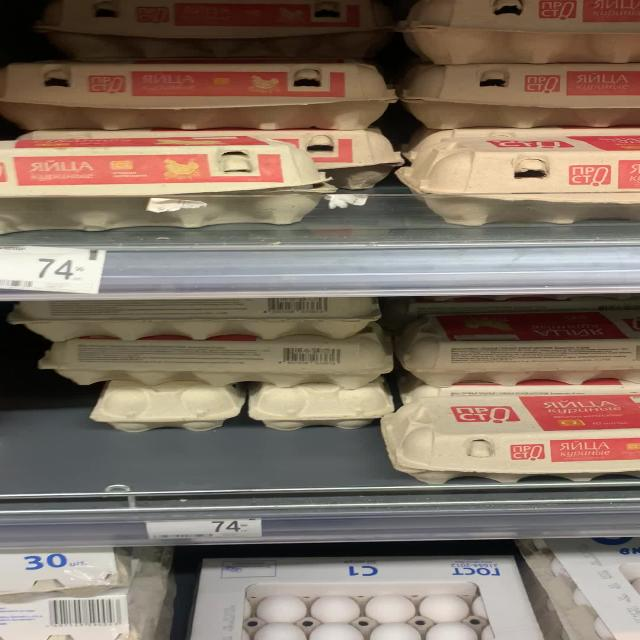egg box: (197, 555, 546, 638), (8, 137, 330, 226), (5, 61, 399, 125), (375, 395, 636, 489), (397, 313, 631, 389), (38, 340, 390, 388)
